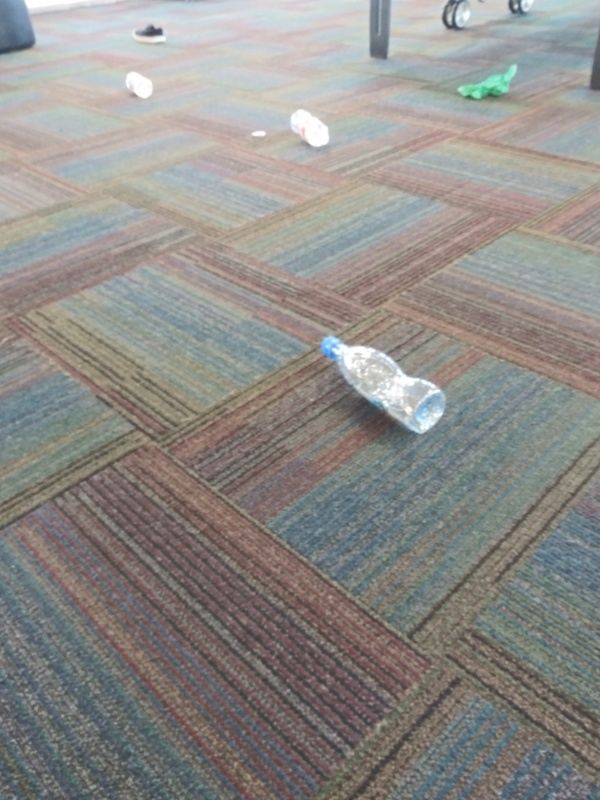bottle: (311, 332, 452, 436), (285, 106, 336, 149), (120, 68, 157, 102)
